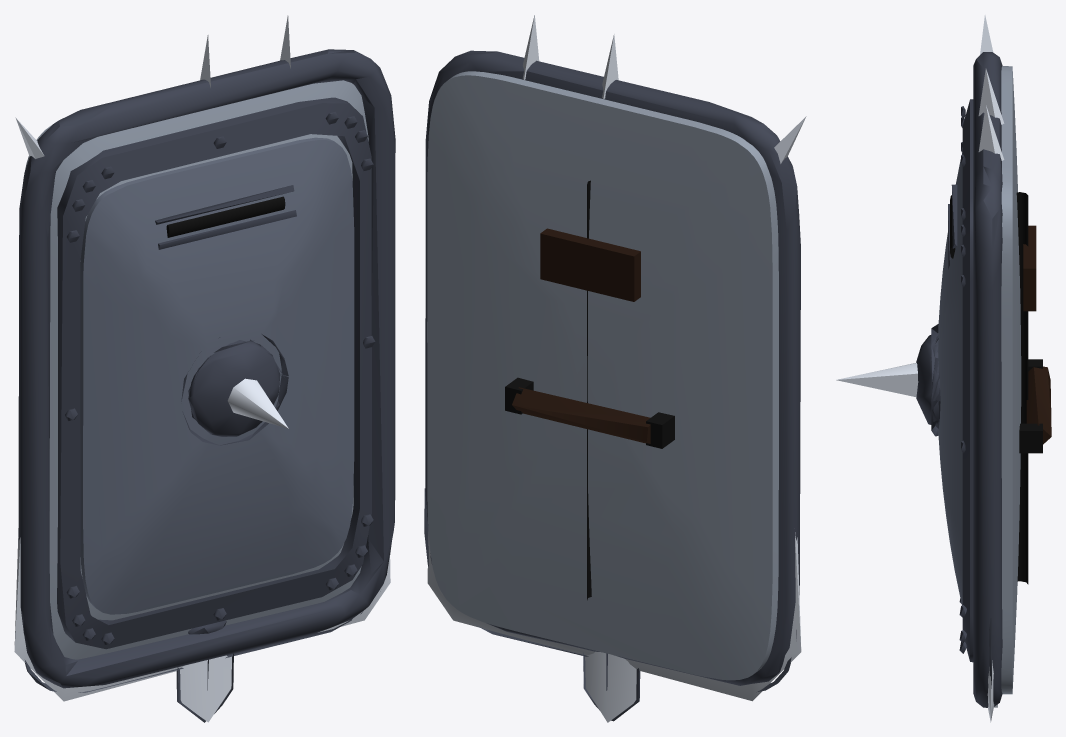
The model's file is greatshield_1.glb.
3 renders of one model, left to right at view 1: azimuth 30°, elevation 25°; view 2: azimuth 150°, elevation 25°; view 3: azimuth 270°, elevation 25°, orthographic. The views are drawn at different scales.
Parts seen in each view (by area): view 1: greatshield_1; view 2: greatshield_1; view 3: greatshield_1.
Part boxes in pixels (x1,y1,x2,y2): greatshield_1: (14,15,395,722); greatshield_1: (424,15,806,722); greatshield_1: (836,15,1051,722).
Bounding box in the file's own units: 0.5642 × 0.9768 × 0.2987.
